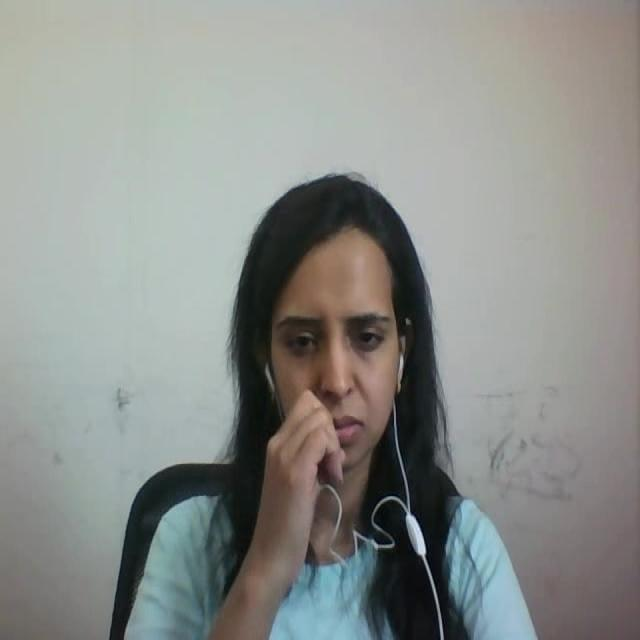Bored: (234, 156, 435, 466)
